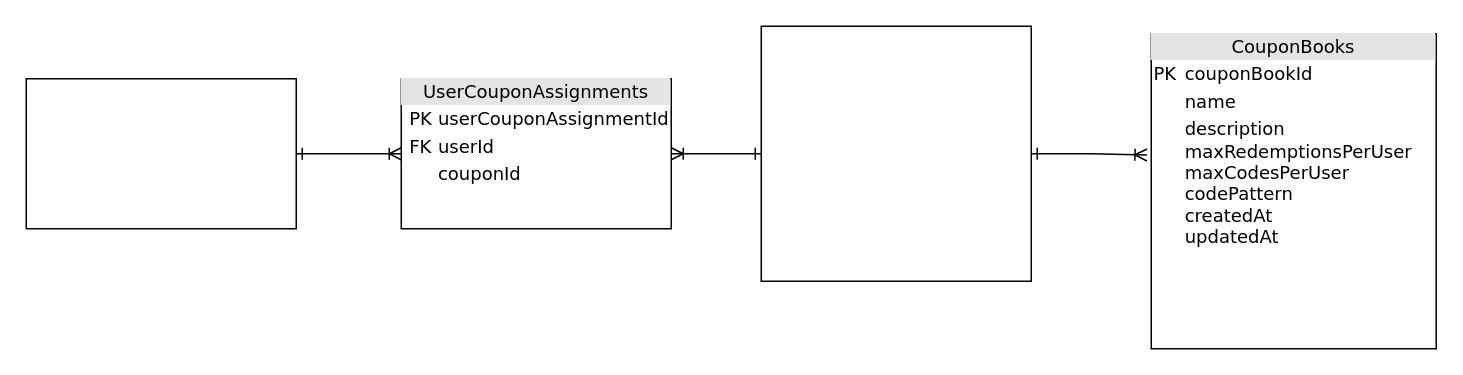
The diagram is 1463 pixels wide and 375 high, and some of its shapes have lost their labels. The shapes that lost their labels are listed below. From the top down, each one's box as (x1, y1, x2, y2) in pixels, then its label:
(25, 77, 296, 229): Users PK userId
(760, 25, 1031, 281): Coupons PK couponId FK couponBookId code satus redeemedBy assignedTo redeemedAt
